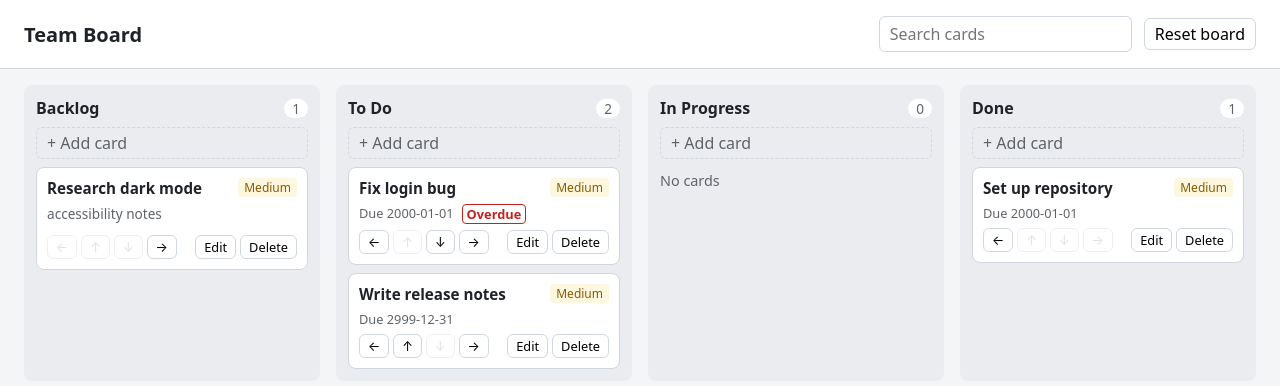
Test: App › filters cards by search without changing counts
Type "ACCESSIBILITY" into the search field labelled "Search cards". click: (1005, 34)
box: [879, 16, 1132, 52]
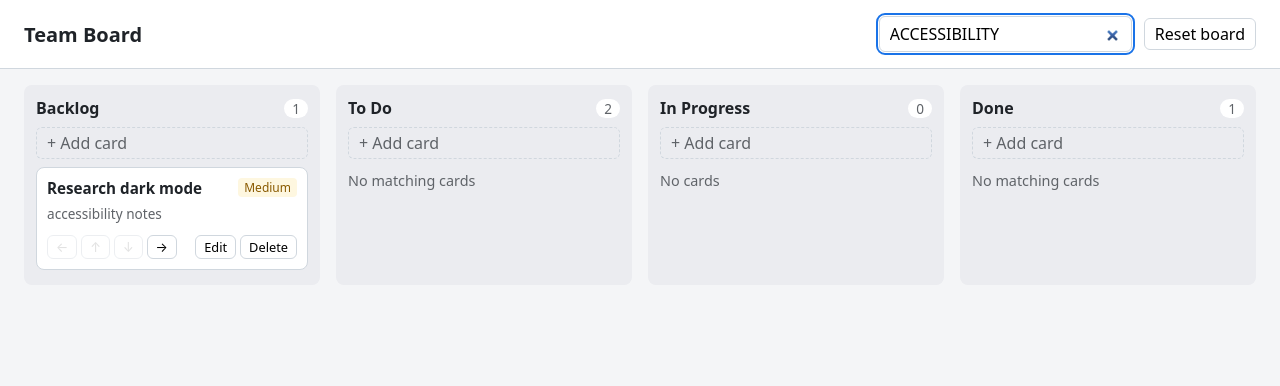
Expected: the list item "Research dark mode" is shown, [36, 167, 308, 270]
Expected: the heading "Fix login bug" is gone
Expected: the text "No matching cards" below "To Do" is shown, [348, 171, 476, 190]
